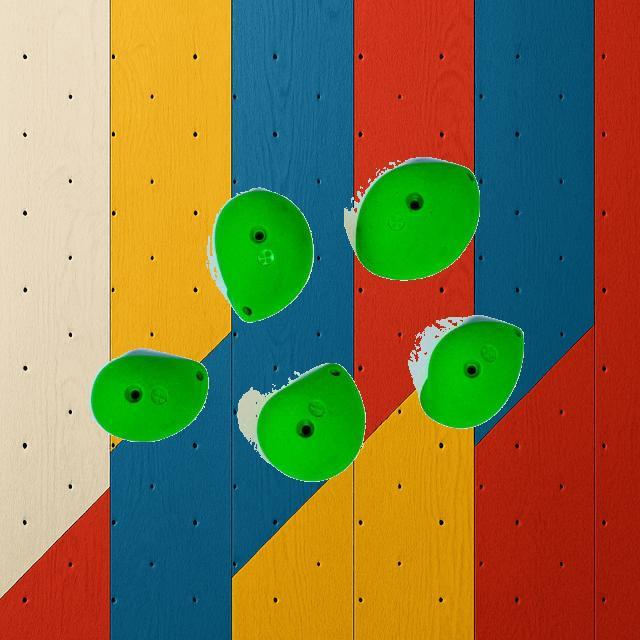Sloper: (354, 160, 480, 278), (212, 188, 314, 320), (254, 362, 366, 481), (419, 319, 526, 429), (90, 353, 210, 441)
